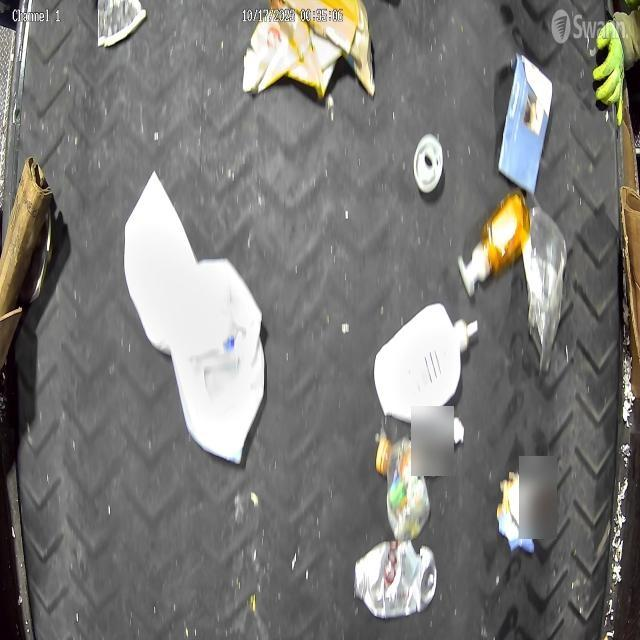milk_jug: (172, 256, 266, 466)
plastic_bottle: (376, 436, 430, 542)
